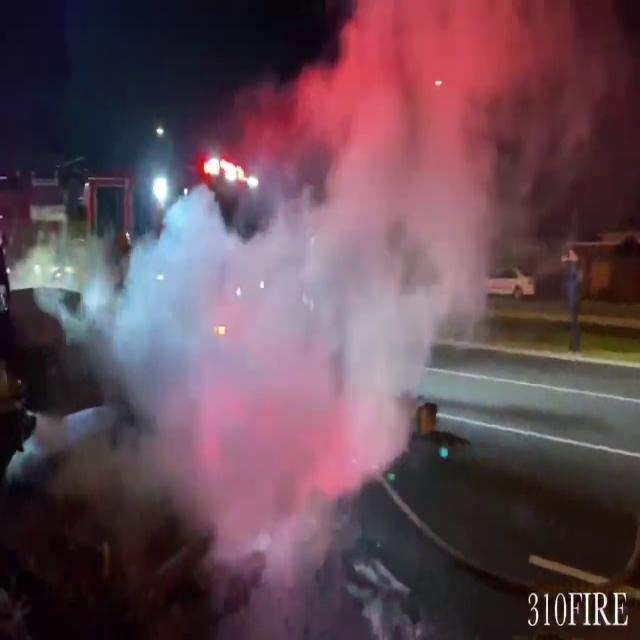Smoke: (138, 1, 627, 548)
